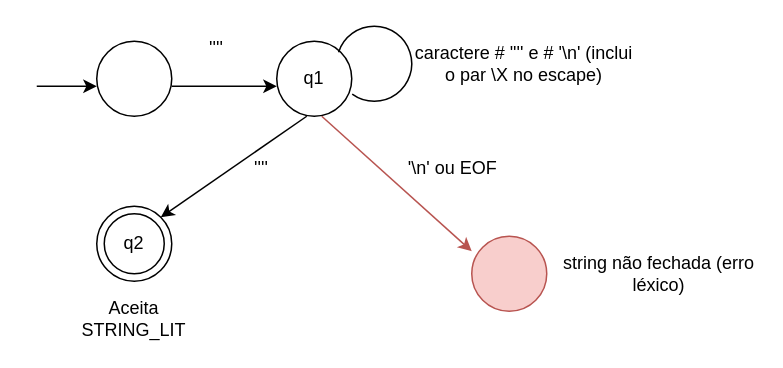
Image size: 783x368. Some labels were removed from this diagram. Here are the shapes that lost their labels. From the top down, the centre of each, then its label:
(133,78): q0
(508,273): ERRO
